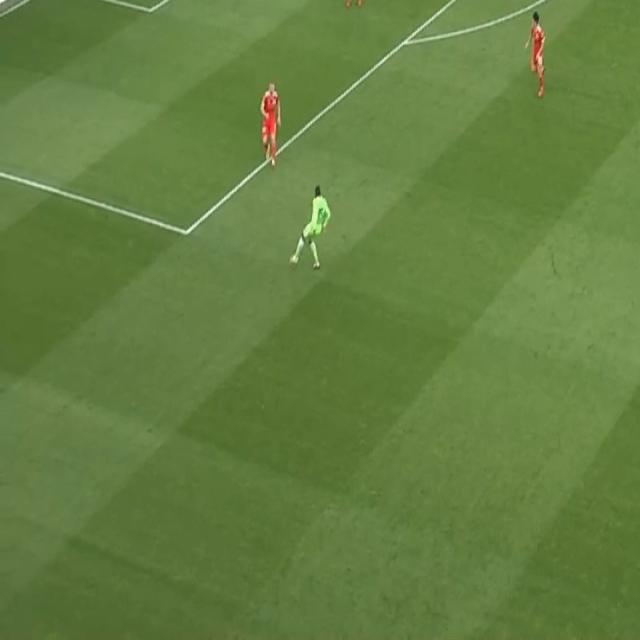ball: (287, 247, 299, 269)
